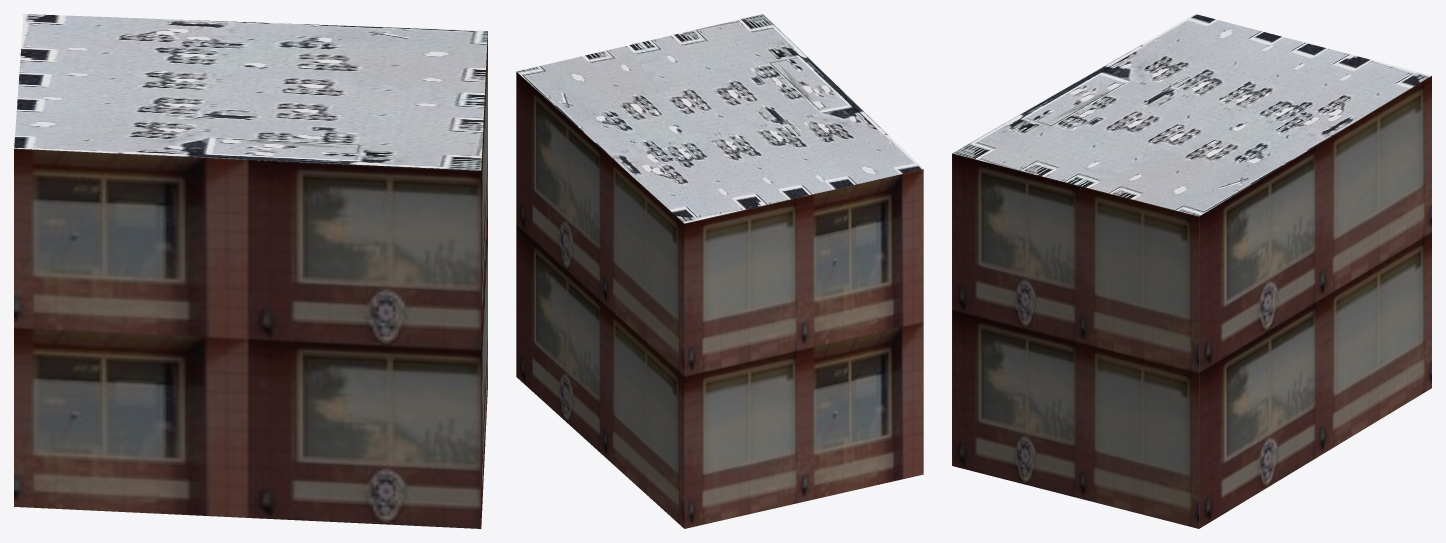
File: ResTex__3835.fbx
3 renders of one model, left to right at view 1: azimuth 30°, elevation 25°; view 2: azimuth 150°, elevation 25°; view 3: azimuth 270°, elevation 25°, orthographic. The views are drawn at different scales.
Parts seen in each view (by area): view 1: CityEngineMaterial_13_m, CityEngineMaterial_m; view 2: CityEngineMaterial_13_m, CityEngineMaterial_m; view 3: CityEngineMaterial_13_m, CityEngineMaterial_m.
Boxes of the visible parts, x1,y1,x2,y2 form: CityEngineMaterial_13_m: [14, 32, 487, 528]; CityEngineMaterial_m: [14, 14, 487, 170]; CityEngineMaterial_13_m: [516, 72, 923, 528]; CityEngineMaterial_m: [516, 14, 923, 223]; CityEngineMaterial_13_m: [952, 76, 1431, 528]; CityEngineMaterial_m: [952, 14, 1431, 216].
Bounding box in the file's own units: 8.34 × 6 × 8.35.
2 materials, 2 textured.
